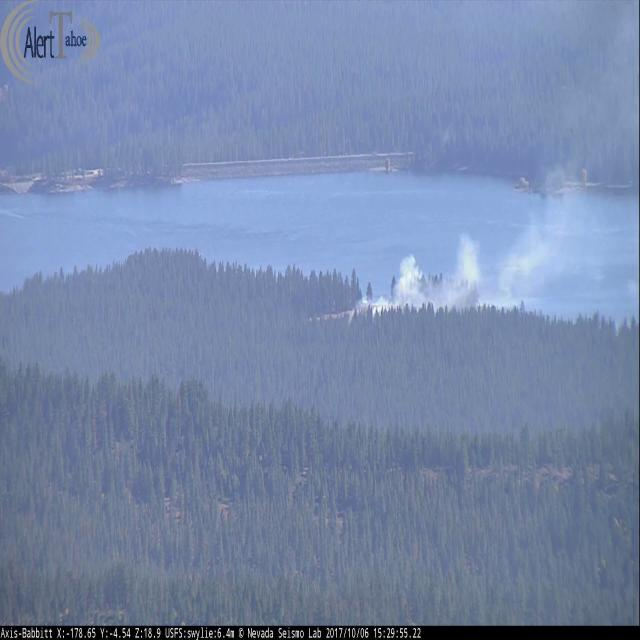smoke: (345, 0, 640, 320)
